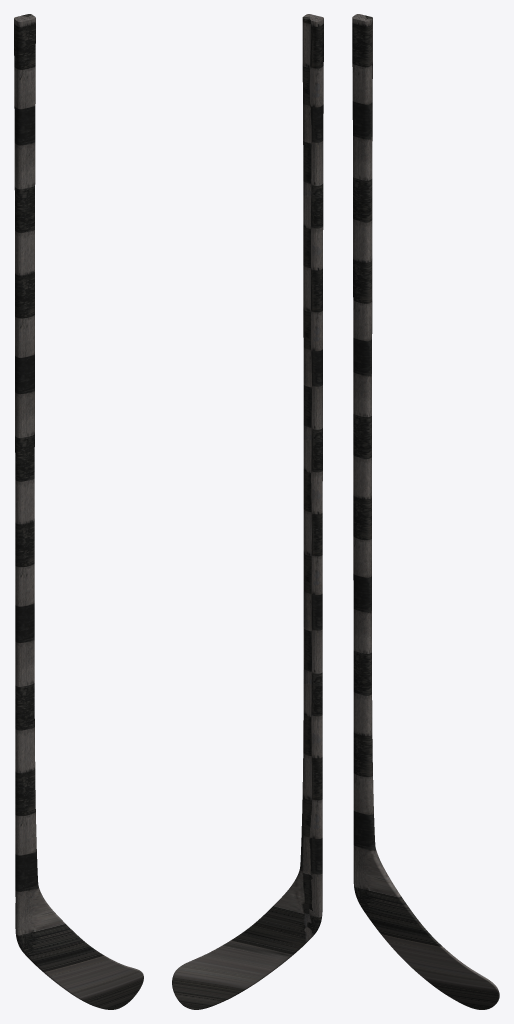
Rendered from P73M-SBO.glb.
3 renders of one model, left to right at view 1: azimuth 30°, elevation 25°; view 2: azimuth 150°, elevation 25°; view 3: azimuth 330°, elevation 25°, orthographic. The views are drawn at different scales.
Visible parts, largest first — view 1: geometry_0; view 2: geometry_0; view 3: geometry_0.
Part boxes in pixels (<box>): geometry_0: <box>14,14,143,1009</box>; geometry_0: <box>172,14,323,1009</box>; geometry_0: <box>352,14,499,1009</box>.
Bounding box in the file's own units: 235 × 1650 × 55.62.
Materials: 1 (1 with a texture image).
